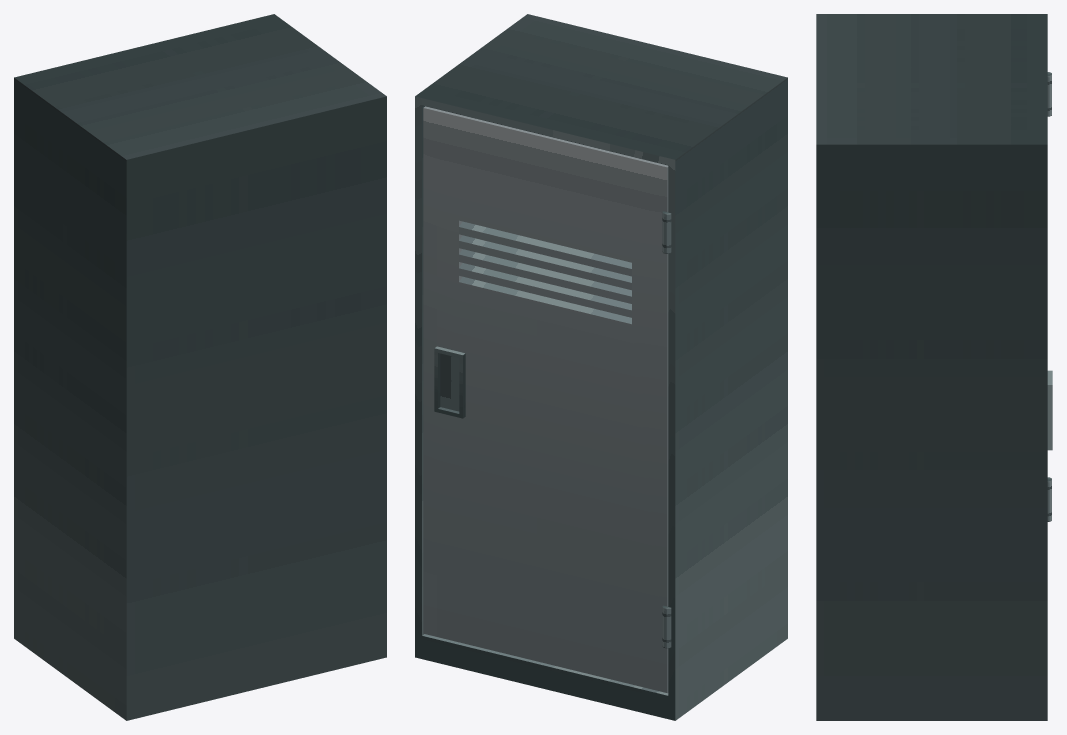
File: cleaning tool cabinet.fbx
3 renders of one model, left to right at view 1: azimuth 30°, elevation 25°; view 2: azimuth 150°, elevation 25°; view 3: azimuth 270°, elevation 25°, orthographic. The views are drawn at different scales.
Visible parts, largest first — view 1: Cleaning Tool Cabinet; view 2: Cleaning Tool Cabinet Door, Cleaning Tool Cabinet, Cleaning Tool Cabinet hinges; view 3: Cleaning Tool Cabinet, Cleaning Tool Cabinet Door, Cleaning Tool Cabinet hinges.
Part boxes in pixels (left/top/right/bottom): Cleaning Tool Cabinet: left=14, top=14, right=386, bottom=720; Cleaning Tool Cabinet Door: left=423, top=106, right=668, bottom=693; Cleaning Tool Cabinet: left=415, top=14, right=787, bottom=720; Cleaning Tool Cabinet hinges: left=662, top=211, right=671, bottom=648; Cleaning Tool Cabinet: left=816, top=14, right=1047, bottom=720; Cleaning Tool Cabinet Door: left=1047, top=370, right=1052, bottom=450; Cleaning Tool Cabinet hinges: left=1047, top=72, right=1051, bottom=521.
Size of the model in its own units: 242 by 499 by 185.
1 material, 1 textured.
